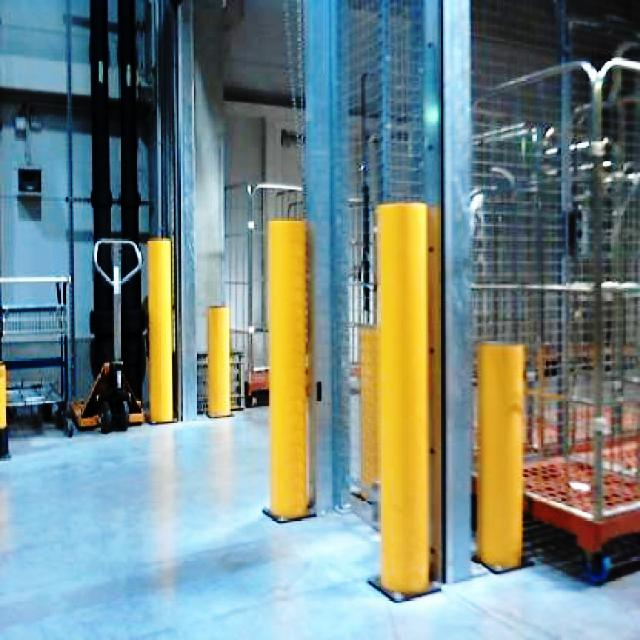ground: (0, 398, 638, 638)
pallet: (472, 340, 638, 583), (371, 200, 437, 600), (520, 451, 638, 583), (0, 272, 71, 432), (68, 358, 143, 431), (3, 378, 63, 425), (0, 357, 9, 462), (245, 366, 268, 406)
